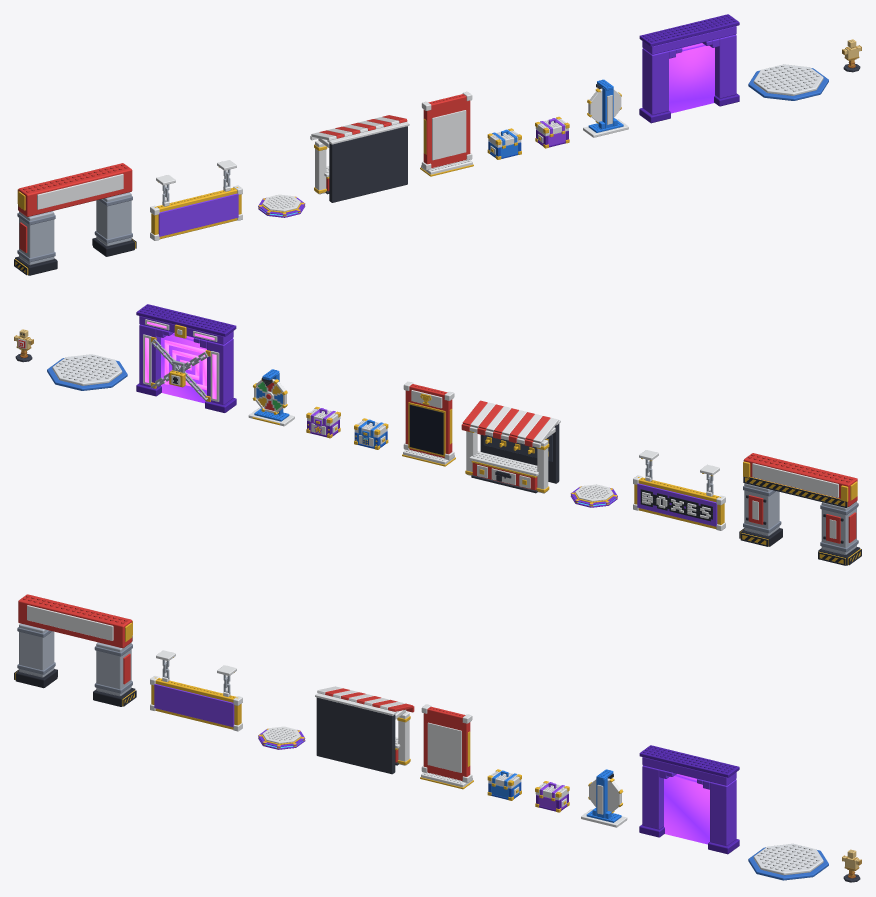
Rendered from Items_Lobby.glb.
3 renders of one model, top to bottom at view 1: azimuth 30°, elevation 25°; view 2: azimuth 150°, elevation 25°; view 3: azimuth 330°, elevation 25°, orthographic.
Visible parts, largest first — view 1: Gate_Stage1, Stand_Guns, Portal_World2, Board_Boxes, Board_Leaderboard, Portal_World2_Glow_7A2EFF, Spawn_Pad, Stand_SpinWheel, Chest_Codes, Chest_GroupReward, Pedestal_Box, Stand_SpinWheel_Wheel; view 2: Gate_Stage1, Stand_Guns, Portal_World2, Board_Boxes, Board_Leaderboard, Spawn_Pad, Portal_World2_Glow_FF4FD8, Portal_World2_Glow_7A2EFF, Stand_SpinWheel_Wheel, Chest_Codes, Chest_GroupReward, Pedestal_Box (+1 smaller); view 3: Gate_Stage1, Stand_Guns, Portal_World2, Board_Boxes, Board_Leaderboard, Portal_World2_Glow_7A2EFF, Spawn_Pad, Stand_SpinWheel, Chest_Codes, Chest_GroupReward, Pedestal_Box, Stand_SpinWheel_Wheel.
Boxes of the visible parts, <box> form: Gate_Stage1: <box>14,163,136,275</box>; Stand_Guns: <box>310,115,409,202</box>; Portal_World2: <box>639,14,739,123</box>; Board_Boxes: <box>150,160,242,240</box>; Board_Leaderboard: <box>420,91,473,176</box>; Portal_World2_Glow_7A2EFF: <box>669,43,714,113</box>; Spawn_Pad: <box>748,64,828,100</box>; Stand_SpinWheel: <box>583,79,628,137</box>; Chest_Codes: <box>487,128,521,159</box>; Chest_GroupReward: <box>535,116,569,148</box>; Pedestal_Box: <box>258,194,305,217</box>; Stand_SpinWheel_Wheel: <box>587,88,621,123</box>; Gate_Stage1: <box>739,453,861,565</box>; Stand_Guns: <box>461,400,560,493</box>; Portal_World2: <box>136,304,236,412</box>; Board_Boxes: <box>633,450,725,530</box>; Board_Leaderboard: <box>402,381,455,466</box>; Spawn_Pad: <box>47,354,127,390</box>; Portal_World2_Glow_FF4FD8: <box>145,321,216,399</box>; Portal_World2_Glow_7A2EFF: <box>161,332,206,403</box>; Stand_SpinWheel_Wheel: <box>252,378,287,414</box>; Chest_Codes: <box>354,418,388,449</box>; Chest_GroupReward: <box>306,406,340,438</box>; Pedestal_Box: <box>570,484,617,507</box>; Gate_Stage1: <box>14,594,136,706</box>; Stand_Guns: <box>315,686,414,774</box>; Portal_World2: <box>639,745,739,854</box>; Board_Boxes: <box>150,650,242,731</box>; Board_Leaderboard: <box>420,704,473,789</box>; Portal_World2_Glow_7A2EFF: <box>664,774,709,844</box>; Spawn_Pad: <box>748,843,828,880</box>; Stand_SpinWheel: <box>581,769,627,827</box>; Chest_Codes: <box>487,769,521,800</box>; Chest_GroupReward: <box>535,781,569,812</box>; Pedestal_Box: <box>258,726,305,749</box>; Stand_SpinWheel_Wheel: <box>588,778,623,813</box>.
Size of the model in its own units: 154 by 14.17 by 12.
15 materials, 12 textured.
